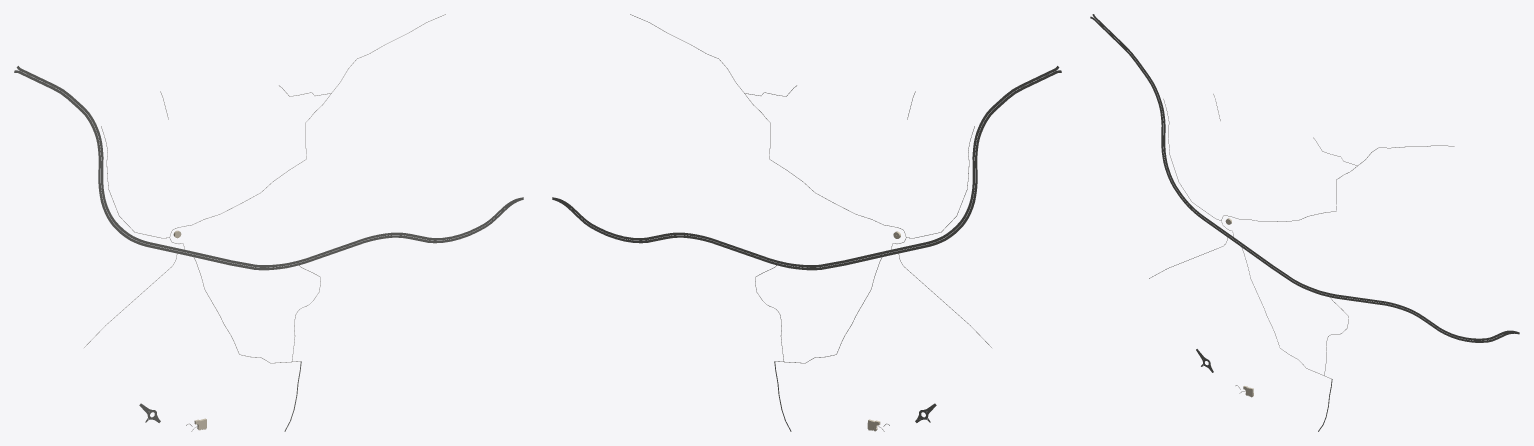
Rendered from historic-palestine-09_30_3508_3248.glb.
3 views of the same model, side by side, from view 1: azimuth 30°, elevation 25°; view 2: azimuth 150°, elevation 25°; view 3: azimuth 330°, elevation 25° (orthographic). The views are drawn at different scales.
Parts seen in each view (by area): view 1: Road 6513, Road 6513.001; view 2: Road 6513, Road 6513.001; view 3: Road 6513.001, Road 6513.
Part boxes in pixels (bbox=[...]): Road 6513: bbox=[14, 70, 523, 270]; Road 6513.001: bbox=[16, 66, 522, 267]; Road 6513: bbox=[552, 70, 1061, 270]; Road 6513.001: bbox=[552, 66, 1059, 267]; Road 6513.001: bbox=[1092, 14, 1519, 340]; Road 6513: bbox=[1090, 16, 1519, 342].
Bounding box in the file's own units: 1759 × 1422 × 8.7.
